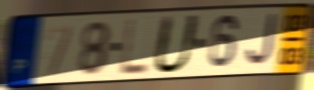6: (208, 12, 240, 72)
7: (44, 25, 73, 76)
8: (77, 20, 112, 78)
J: (244, 12, 278, 69)
L: (117, 17, 150, 77)
U: (150, 13, 203, 77)
